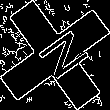N_SW: (23, 24, 87, 86)
